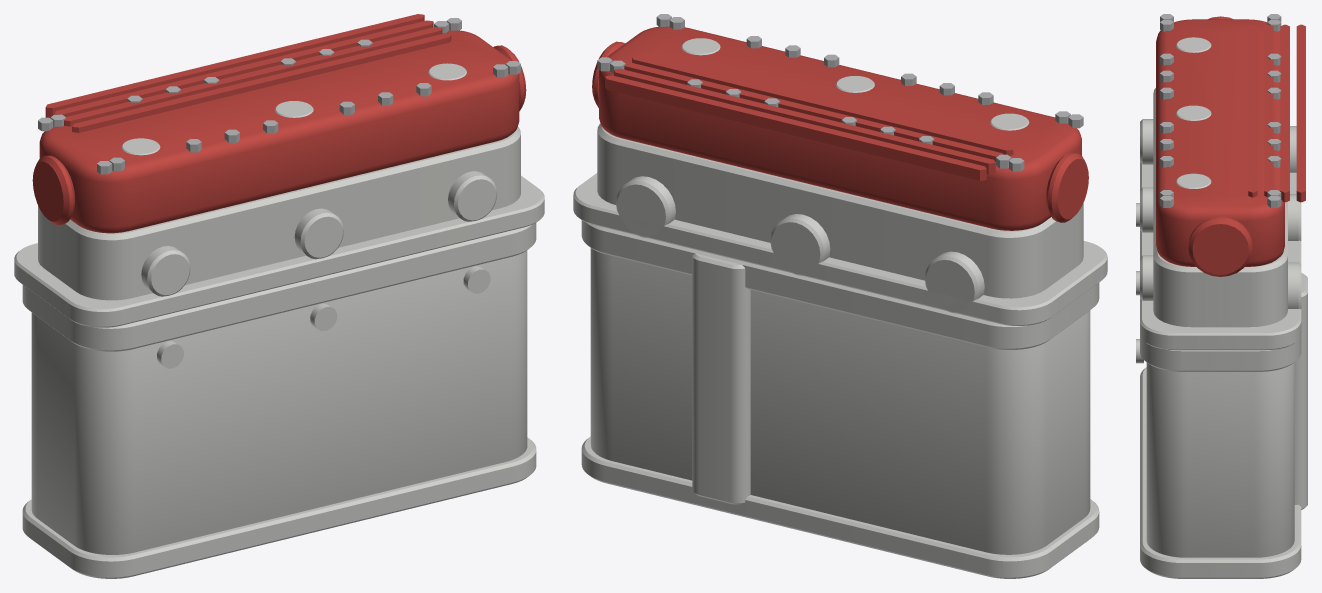
Rendered from hot_cam.glb.
3 renders of one model, left to right at view 1: azimuth 30°, elevation 25°; view 2: azimuth 150°, elevation 25°; view 3: azimuth 270°, elevation 25°, orthographic. The views are drawn at different scales.
Visible parts, largest first — view 1: lod0; view 2: lod0; view 3: lod0.
Boxes of the visible parts, <box> form: lod0: <box>14,14,544,578</box>; lod0: <box>573,14,1107,578</box>; lod0: <box>1136,14,1307,578</box>.
Size of what is drawn, in the model's own units: 0.368 by 0.3043 by 0.128.
